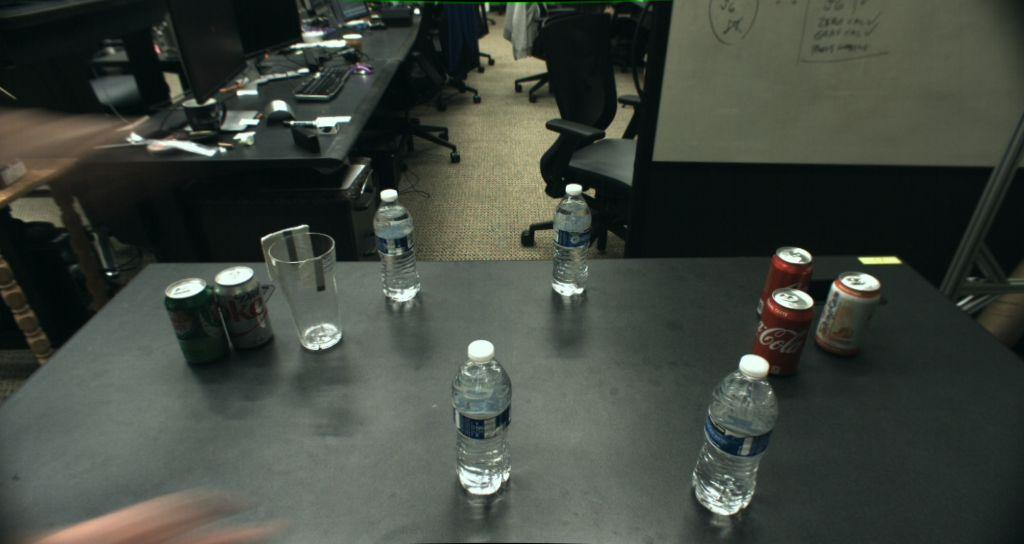can_coke: (754, 287, 813, 379)
can_diet_coke: (213, 266, 274, 351)
can_ginger_ale: (162, 276, 232, 366)
can_talking_rain_peach_nectarine: (814, 272, 879, 354)
water_bottle: (692, 354, 778, 515), (451, 340, 512, 495), (372, 188, 420, 302), (551, 183, 591, 296)
